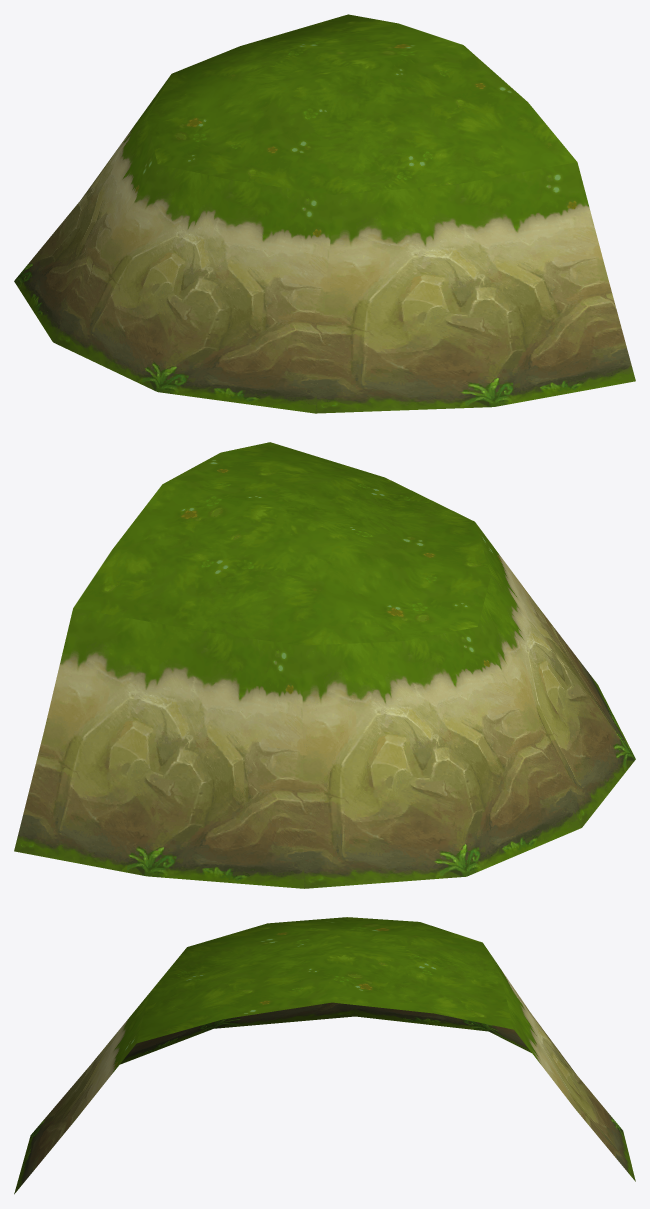
The model's file is loyalismwood_cliff03.FBX.
The picture shows the model from 3 angles, top to bottom: view 1: azimuth 30°, elevation 25°; view 2: azimuth 150°, elevation 25°; view 3: azimuth 270°, elevation 25°; orthographic projection. The views are drawn at different scales.
Visible parts, largest first — view 1: loyalismwood_cliff03; view 2: loyalismwood_cliff03; view 3: loyalismwood_cliff03.
Boxes of the visible parts, bbox=[...] form: loyalismwood_cliff03: bbox=[14, 14, 635, 413]; loyalismwood_cliff03: bbox=[14, 442, 635, 888]; loyalismwood_cliff03: bbox=[14, 917, 635, 1194].
Size of the model in its own units: 726 by 1049 by 363.
